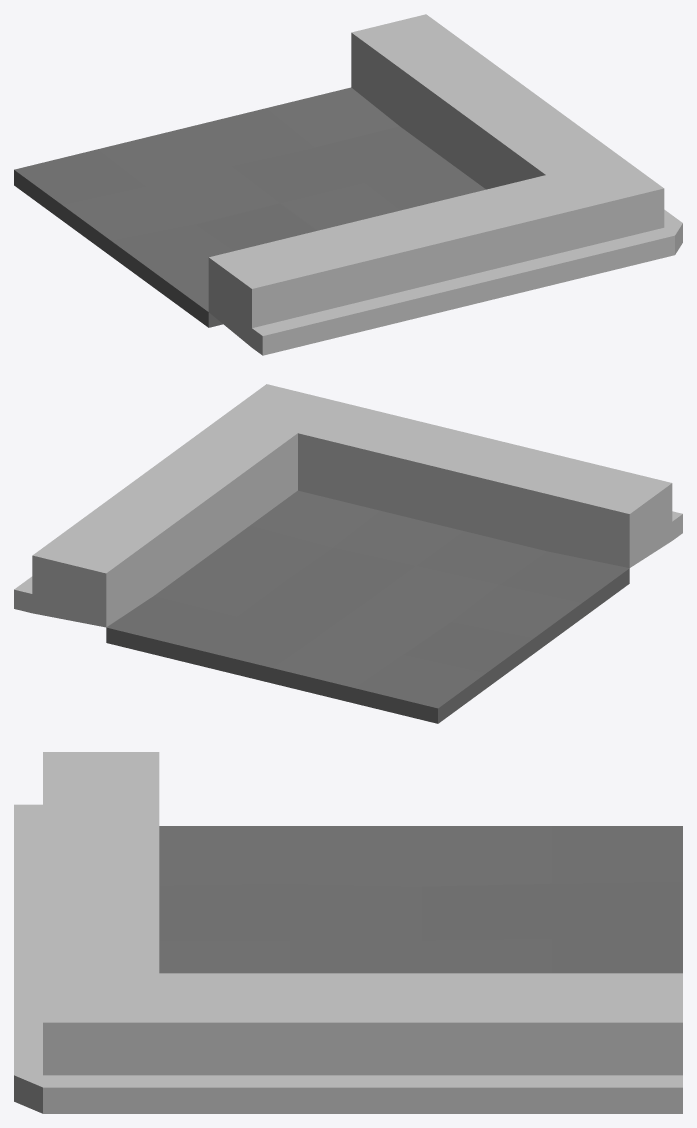
The model's file is RoofFlatCorner.glb.
3 views of the same model, one above another, from view 1: azimuth 30°, elevation 25°; view 2: azimuth 150°, elevation 25°; view 3: azimuth 270°, elevation 25° (orthographic). The views are drawn at different scales.
Visible parts, largest first — view 1: RoofFlatCorner; view 2: RoofFlatCorner; view 3: RoofFlatCorner.
Part boxes in pixels (box(x1,y1,x2,y2)): RoofFlatCorner: box(14, 14, 682, 355); RoofFlatCorner: box(14, 384, 682, 723); RoofFlatCorner: box(14, 752, 682, 1113).
Size of the model in its own units: 1.15 by 0.18 by 1.15.
Materials: 1 (1 with a texture image).
